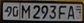0: (12, 4, 19, 18)
2: (32, 4, 41, 19)
3: (48, 4, 58, 20)
9: (40, 5, 49, 20), (4, 5, 12, 18)
A: (66, 5, 76, 20)
F: (58, 5, 67, 20)
M: (21, 4, 31, 19)
